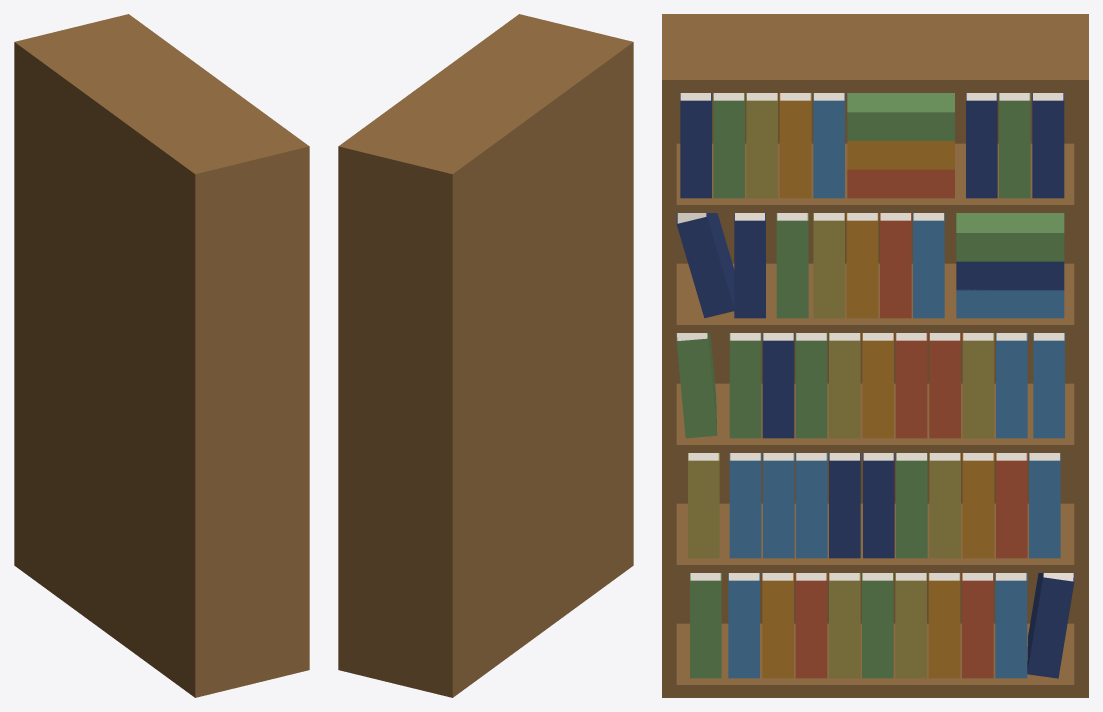
Rendered from bookshelf_full.glb.
The picture shows the model from 3 angles, left to right: view 1: azimuth 30°, elevation 25°; view 2: azimuth 150°, elevation 25°; view 3: azimuth 270°, elevation 25°; orthographic projection. The views are drawn at different scales.
Parts seen in each view (by area): view 1: book.051; view 2: book.051; view 3: book.051.
Boxes of the visible parts, x1,y1,x2,y2 form: book.051: [14, 14, 309, 697]; book.051: [338, 14, 633, 697]; book.051: [662, 14, 1088, 697].
Bounding box in the file's own units: 2 × 8.75 × 5.48.
